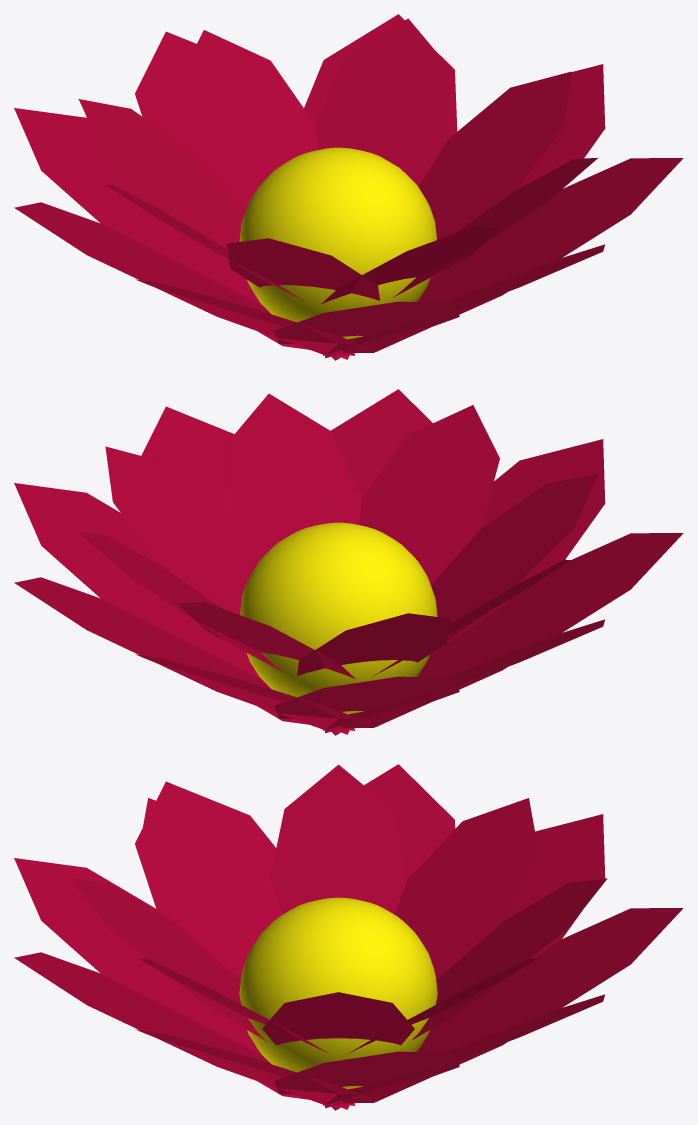
Rendered from Suiren.obj.
3 views of the same model, one above another, from view 1: azimuth 30°, elevation 25°; view 2: azimuth 150°, elevation 25°; view 3: azimuth 270°, elevation 25° (orthographic).
Visible parts, largest first — view 1: Hana; view 2: Hana; view 3: Hana.
Part boxes in pixels (box(x1,y1,x2,y2)): Hana: box(14, 14, 683, 360); Hana: box(14, 389, 683, 735); Hana: box(14, 764, 683, 1110).
Bounding box in the file's own units: 0.9488 × 0.3464 × 0.9343.
